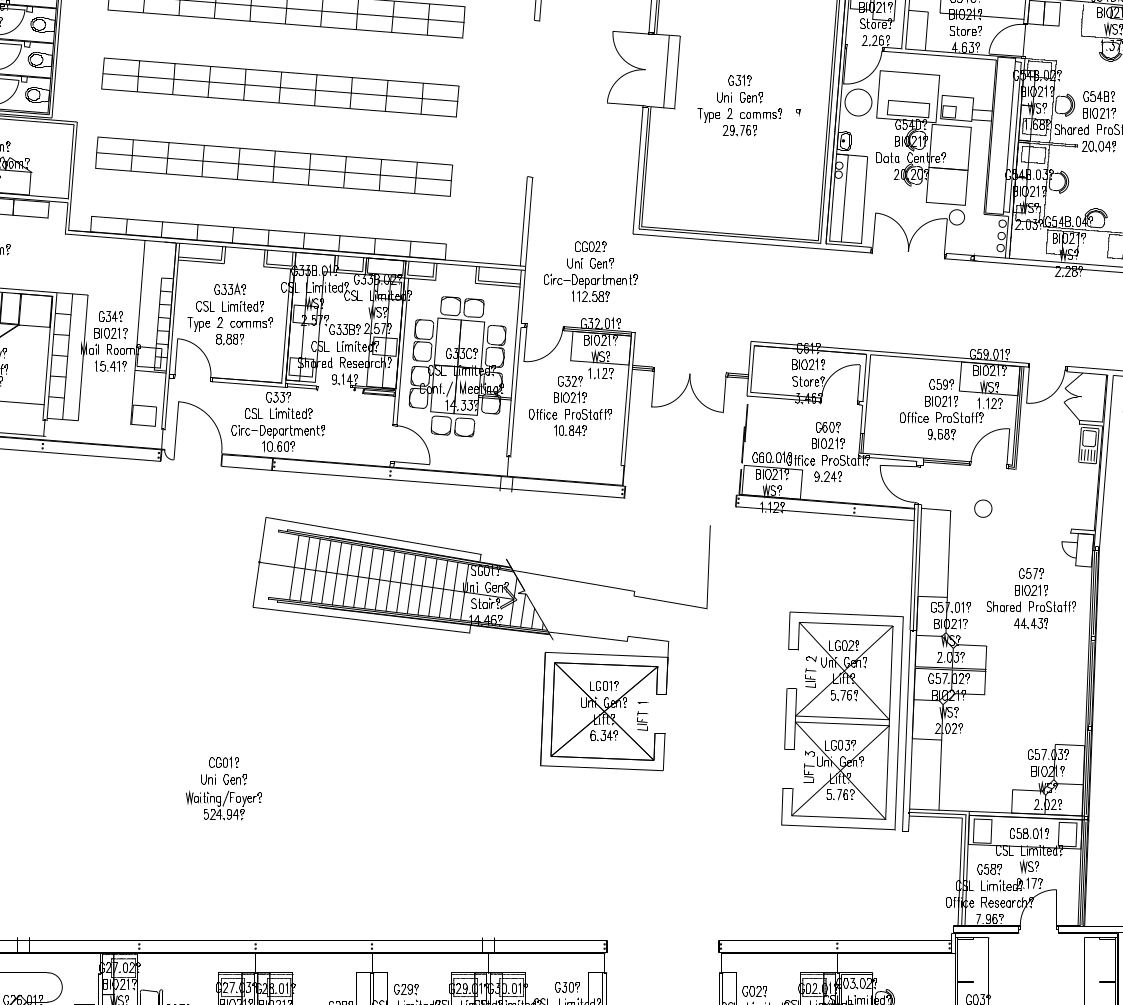door: (643, 361, 738, 421), (866, 204, 961, 264), (592, 20, 650, 117), (170, 396, 229, 457), (841, 37, 888, 91), (521, 322, 566, 369), (1016, 886, 1061, 933), (985, 17, 1026, 64), (1024, 361, 1065, 408), (970, 422, 1011, 469), (875, 459, 916, 506), (821, 361, 862, 408), (173, 335, 214, 382), (394, 421, 435, 468)
